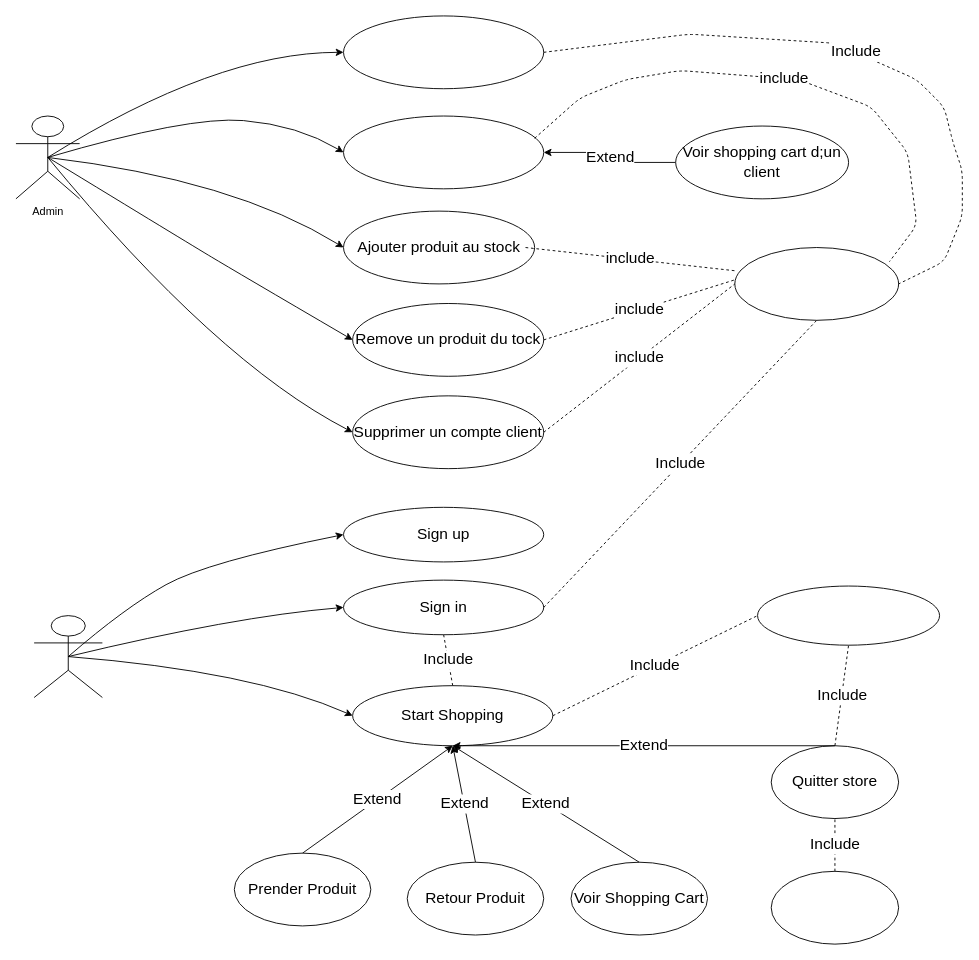
This 979x960 diagram has some shape labels left out. The shapes that lost their labels are listed below. From the top down, each one's centre as x and y in pixels, then its label:
At point 443,52: "Creer un compter client".
At point 443,152: "Voir le client actif dans le store".
At point 816,283: "Authentication".
At point 848,615: "Scan QR".
At point 67,656: "Client".
At point 834,907: "Payment".
